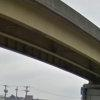Bridge: (1, 0, 93, 83)
